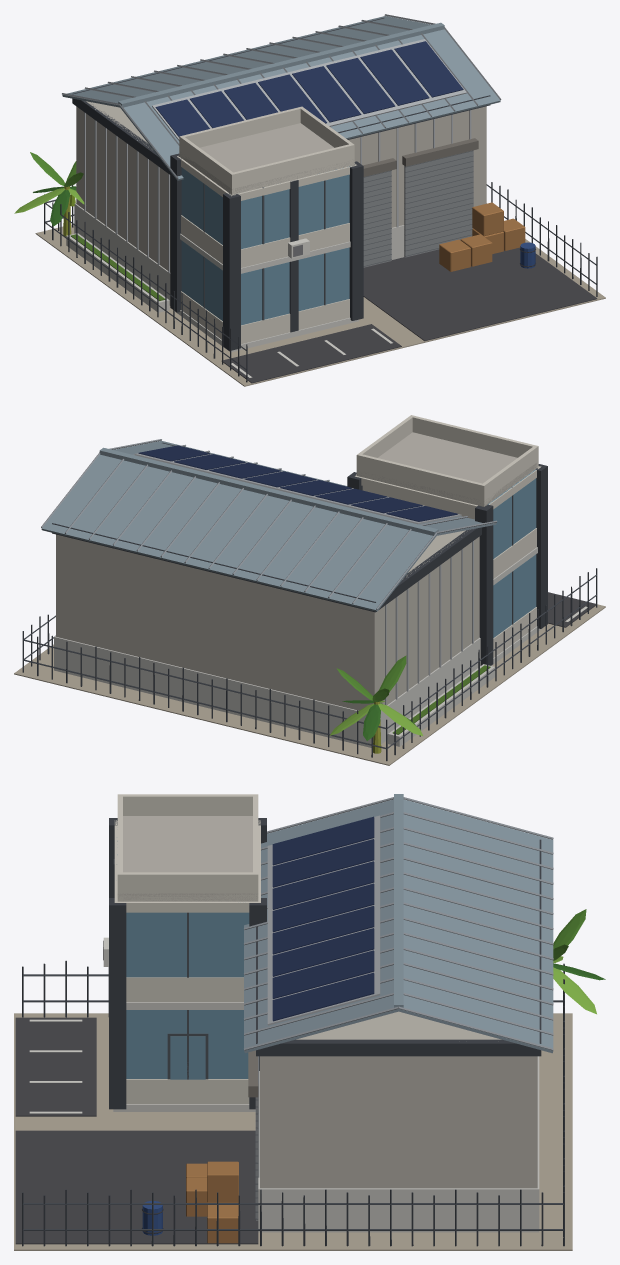
The model's file is factory_1.glb.
3 renders of one model, top to bottom at view 1: azimuth 30°, elevation 25°; view 2: azimuth 150°, elevation 25°; view 3: azimuth 270°, elevation 25°, orthographic. The views are drawn at different scales.
Visible parts, largest first — view 1: body; view 2: body; view 3: body.
Boxes of the visible parts, x1,y1,x2,y2 form: body: [14, 14, 605, 386]; body: [14, 415, 605, 765]; body: [14, 794, 605, 1250].
Size of the model in its own units: 17.1 by 7.45 by 16.84.
